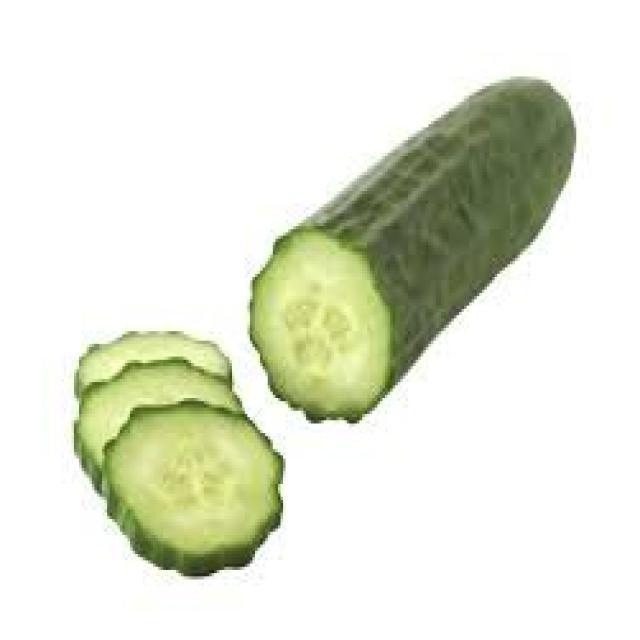cucumber: (249, 79, 580, 423)
